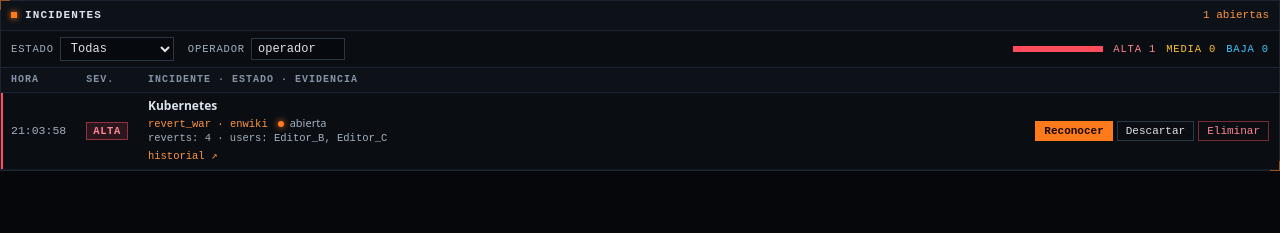
Test: AlertsPanel › shows api errors
The image size is (1280, 233).
Expected: the link "Kubernetes" is shown, [148,97,217,114]
Click the button "Descartar" at (1156, 131), box [1117,121,1194,141]
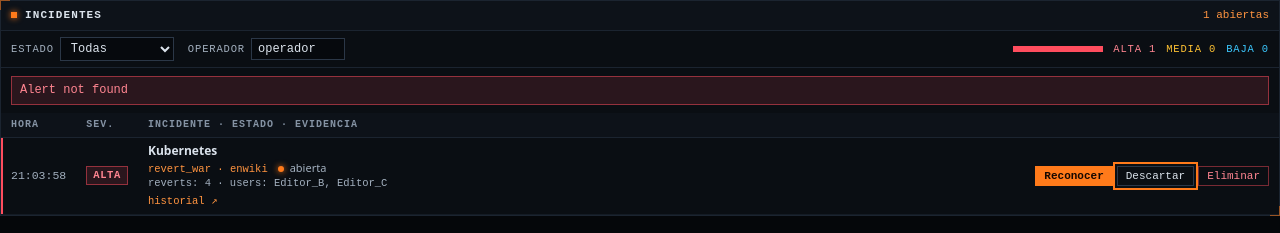
Expected: the message reads "Alert not found", [20,83,128,97]
